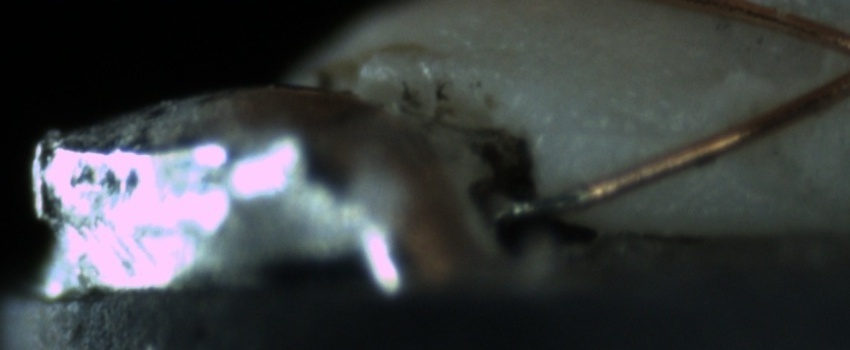DL: (562, 98, 697, 163)
TS: (502, 186, 592, 221)
